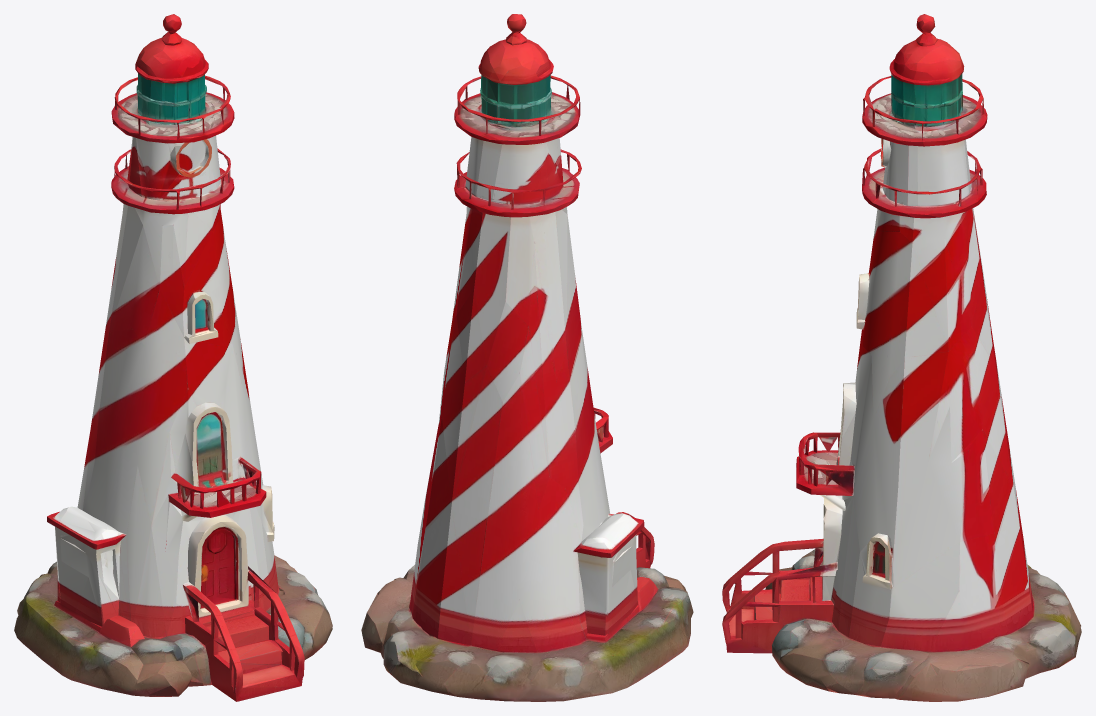
Rendered from home.glb.
3 views of the same model, side by side, from view 1: azimuth 30°, elevation 25°; view 2: azimuth 150°, elevation 25°; view 3: azimuth 270°, elevation 25° (orthographic). The views are drawn at different scales.
Size of the model in its own units: 0.8673 by 1.9 by 0.9911.
1 material, 1 textured.
